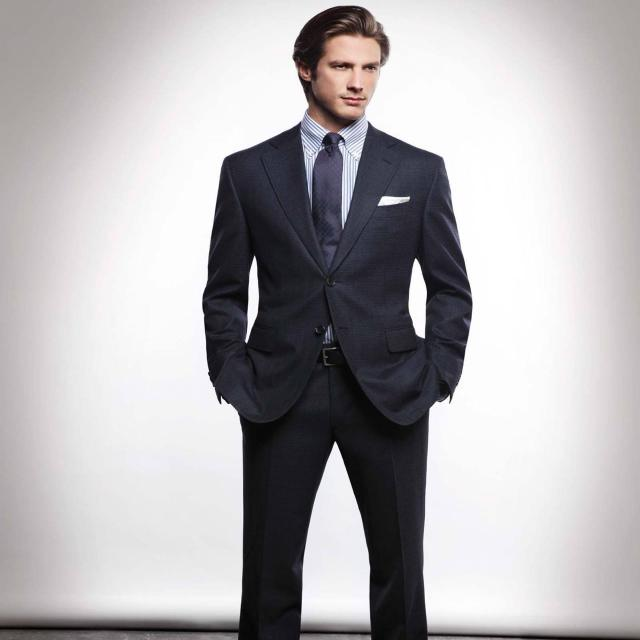mobile_phonerotation: (201, 6, 474, 638)
